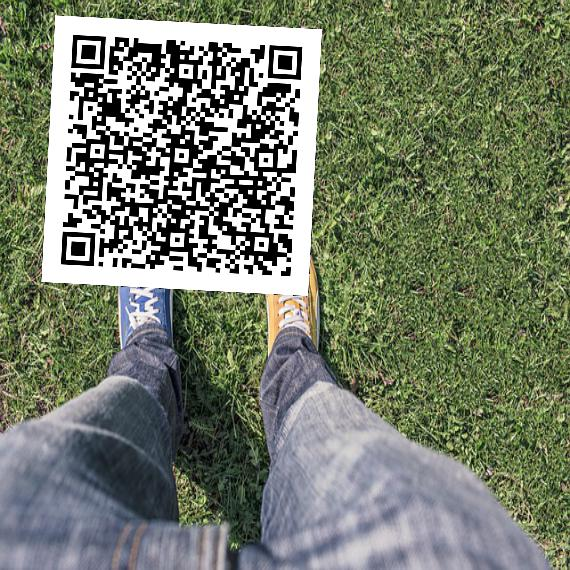qr_code: (41, 15, 321, 295)
